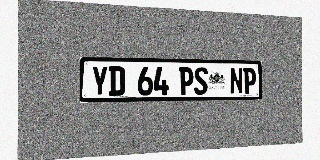4: (154, 67, 169, 95)
6: (138, 66, 153, 95)
D: (109, 66, 125, 96)
N: (230, 68, 243, 94)
P: (179, 67, 193, 95), (243, 68, 256, 94)
S: (194, 67, 208, 95)
Y: (91, 66, 108, 96)
